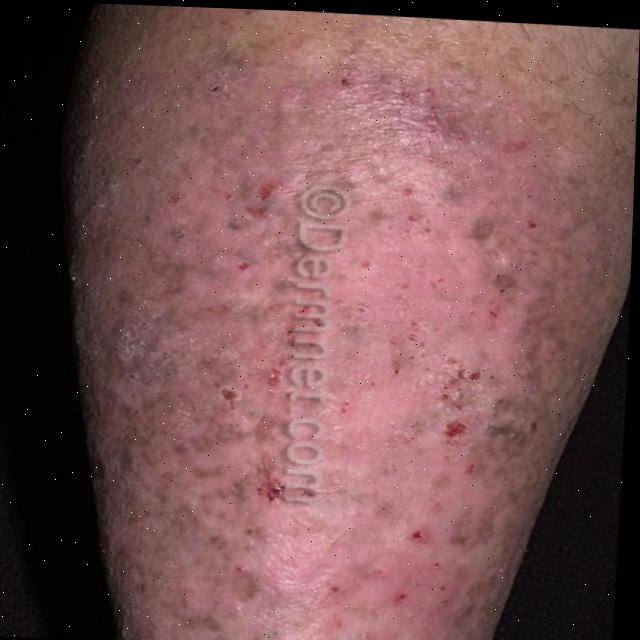Eczema: (100, 128, 601, 640)
